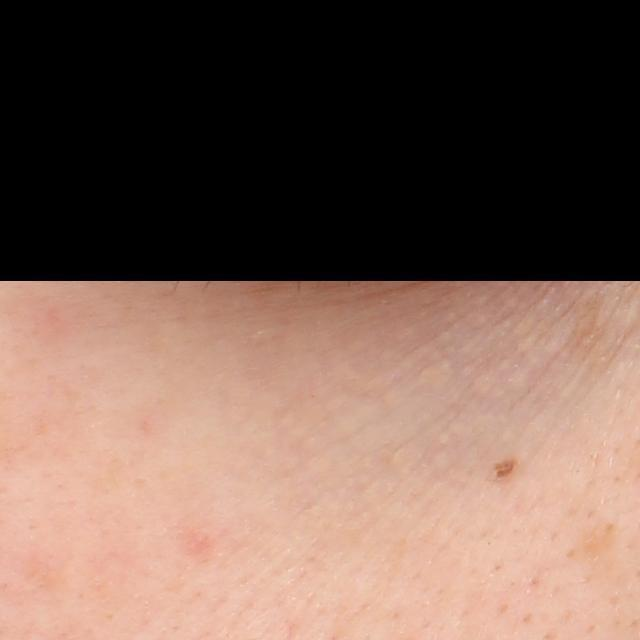nevus: (490, 457, 520, 479)
